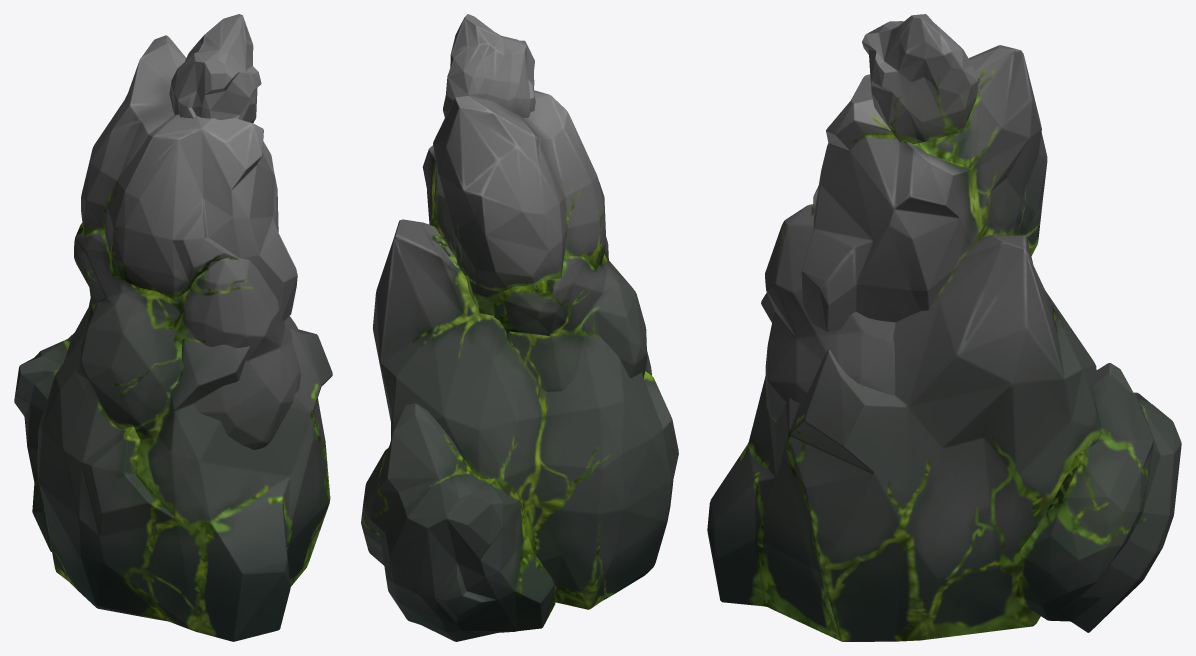
File: ROCK_MESH_03.fbx
The picture shows the model from 3 angles, left to right: view 1: azimuth 30°, elevation 25°; view 2: azimuth 150°, elevation 25°; view 3: azimuth 270°, elevation 25°; orthographic projection. The views are drawn at different scales.
Visible parts, largest first — view 1: defaultMaterial.006; view 2: defaultMaterial.006; view 3: defaultMaterial.006.
Boxes of the visible parts, left/top/right/bottom form: defaultMaterial.006: left=14, top=14, right=332, bottom=641; defaultMaterial.006: left=361, top=14, right=678, bottom=641; defaultMaterial.006: left=707, top=14, right=1181, bottom=641.
Size of the model in its own units: 2129 by 4650 by 3152.
